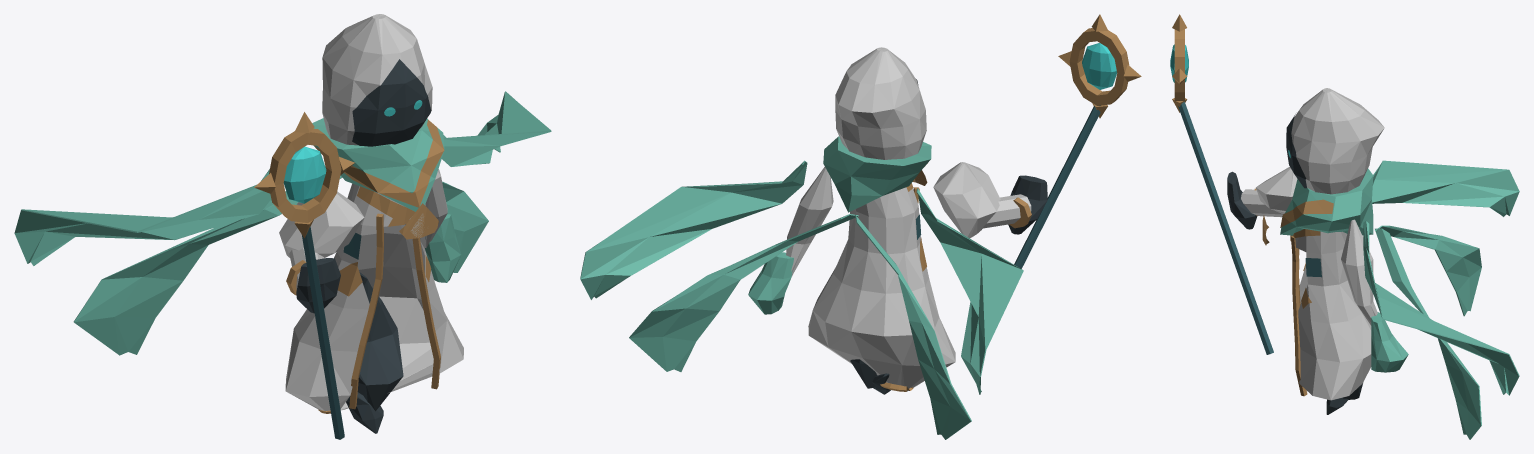
The model's file is gale-caster-model.glb.
3 renders of one model, left to right at view 1: azimuth 30°, elevation 25°; view 2: azimuth 150°, elevation 25°; view 3: azimuth 270°, elevation 25°, orthographic. The views are drawn at different scales.
Parts seen in each view (by area): view 1: SplitRobe, ScarfLower.L, PointedHood, ScarfUpper.L, FaceVoid, Mantle, ScarfUpper.R, StaffRing, ShadowLegs, Sleeve.L, StaffShaft, MantleBinding (+10 smaller); view 2: SplitRobe, ScarfUpper.R, PointedHood, ScarfLower.R, ScarfUpper.L, Mantle, ScarfLower.L, Sleeve.L, StaffRing, Sleeve.R, Hand.R, StaffShaft (+3 smaller); view 3: SplitRobe, PointedHood, ScarfUpper.L, ScarfUpper.R, ScarfLower.R, Mantle, ScarfLower.L, StaffShaft, Sleeve.R, Hand.R, Sleeve.L, FrontBinding.R (+5 smaller).
Boxes of the visible parts, box(x1,y1,x2,y2) form: SplitRobe: box(285, 183, 463, 410); ScarfLower.L: box(73, 175, 341, 355); PointedHood: box(322, 14, 432, 145); ScarfUpper.L: box(14, 169, 271, 265); FaceVoid: box(352, 59, 431, 146); Mantle: box(312, 118, 444, 211); ScarfUpper.R: box(427, 91, 551, 166); StaffRing: box(269, 128, 341, 222); ShadowLegs: box(357, 272, 403, 411); Sleeve.L: box(279, 191, 364, 257); StaffShaft: box(302, 226, 344, 439); MantleBinding: box(314, 119, 444, 207); SplitRobe: box(808, 187, 955, 391); ScarfUpper.R: box(580, 160, 807, 299); PointedHood: box(835, 47, 926, 159); ScarfLower.R: box(629, 214, 858, 371); ScarfUpper.L: box(916, 188, 1023, 394); Mantle: box(823, 136, 931, 212); ScarfLower.L: box(854, 215, 971, 439); Sleeve.L: box(933, 162, 1000, 238); StaffRing: box(1069, 28, 1129, 105); Sleeve.R: box(786, 167, 833, 275); Hand.R: box(748, 252, 793, 314); StaffShaft: box(1014, 105, 1100, 268); SplitRobe: box(1295, 231, 1371, 400); PointedHood: box(1291, 88, 1384, 194); ScarfUpper.L: box(1372, 160, 1519, 216); ScarfUpper.R: box(1363, 220, 1519, 395); ScarfLower.R: box(1375, 228, 1481, 439); Mantle: box(1280, 168, 1373, 235); ScarfLower.L: box(1375, 225, 1481, 316); StaffShaft: box(1178, 101, 1273, 354); Sleeve.R: box(1341, 219, 1377, 325); Hand.R: box(1371, 312, 1408, 372); Sleeve.L: box(1256, 167, 1297, 213); FrontBinding.R: box(1291, 236, 1307, 396).
Size of the model in its own units: 1.19 by 1.01 by 0.9521.
